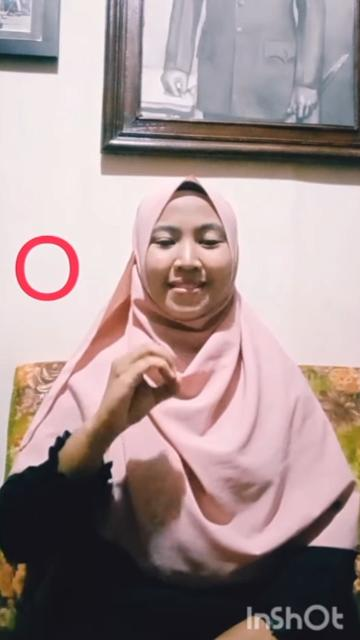O: (102, 338, 186, 436)
